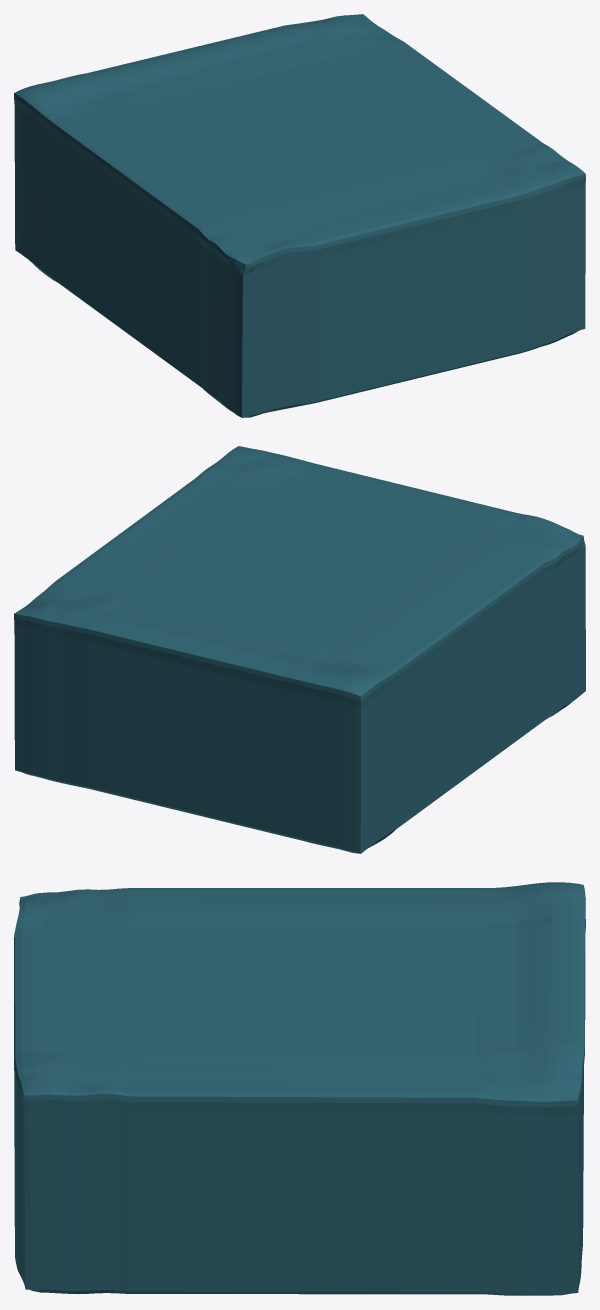
File: awa.fbx
3 views of the same model, one above another, from view 1: azimuth 30°, elevation 25°; view 2: azimuth 150°, elevation 25°; view 3: azimuth 270°, elevation 25° (orthographic). The views are drawn at different scales.
Parts seen in each view (by area): view 1: Cube.034; view 2: Cube.034; view 3: Cube.034.
Part boxes in pixels (<box>): Cube.034: <box>14,14,585,417</box>; Cube.034: <box>14,446,585,853</box>; Cube.034: <box>14,882,585,1295</box>.
Size of the model in its own units: 499 by 232 by 569.
